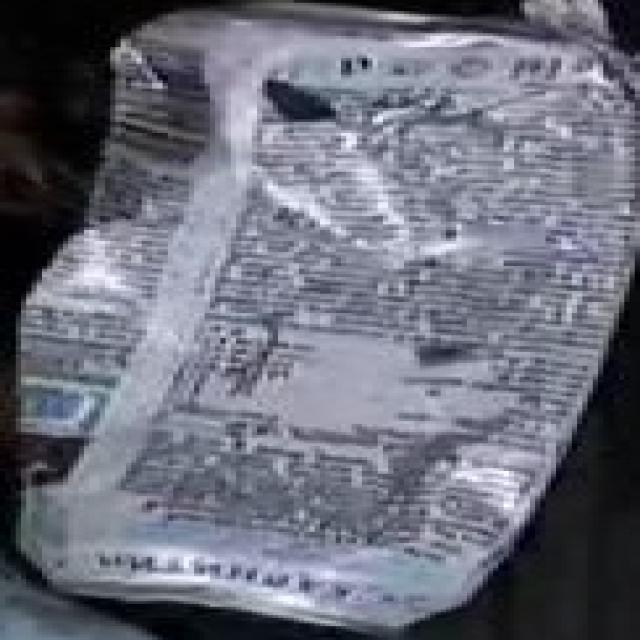litter: (16, 0, 640, 638)
